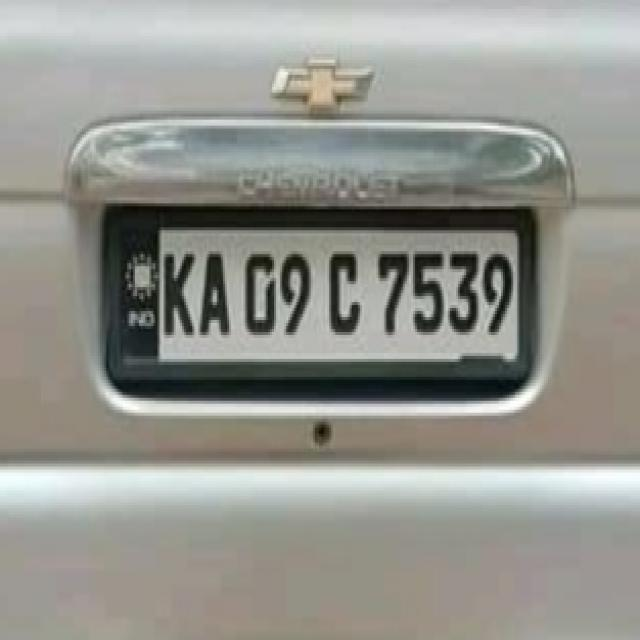0: (244, 244, 278, 340)
3: (448, 238, 483, 341)
5: (410, 245, 451, 333)
7: (374, 242, 410, 342)
9: (481, 241, 519, 344), (279, 244, 315, 338)
A: (198, 245, 235, 346)
C: (324, 244, 368, 339)
K: (160, 241, 198, 341)
